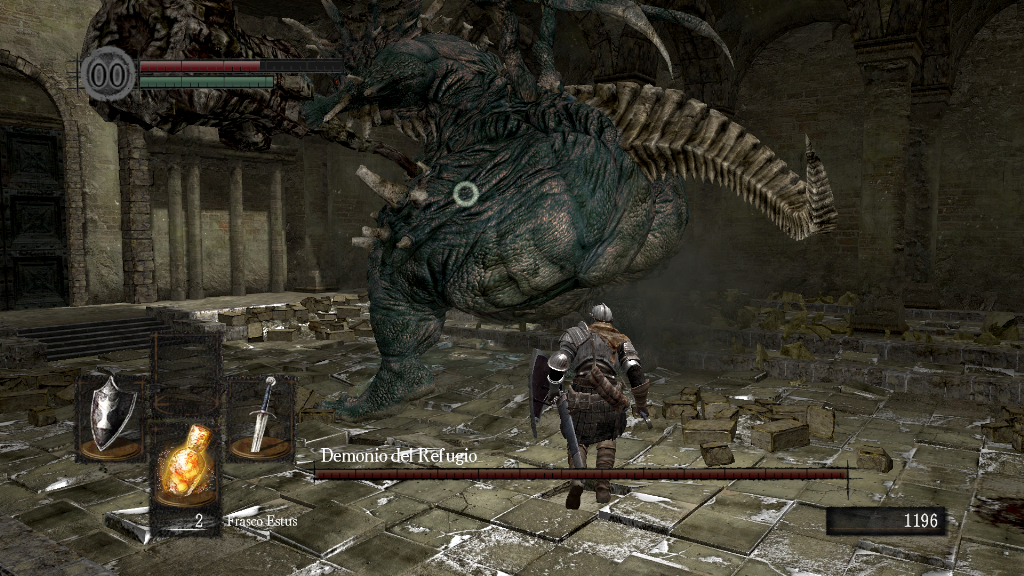asylumDemon: (77, 2, 842, 426)
bossHP: (314, 469, 847, 479)
health: (138, 58, 343, 71)
humanity: (80, 45, 136, 102)
player: (528, 302, 650, 512)
souls: (825, 506, 945, 536)
stamina: (138, 74, 274, 88)
